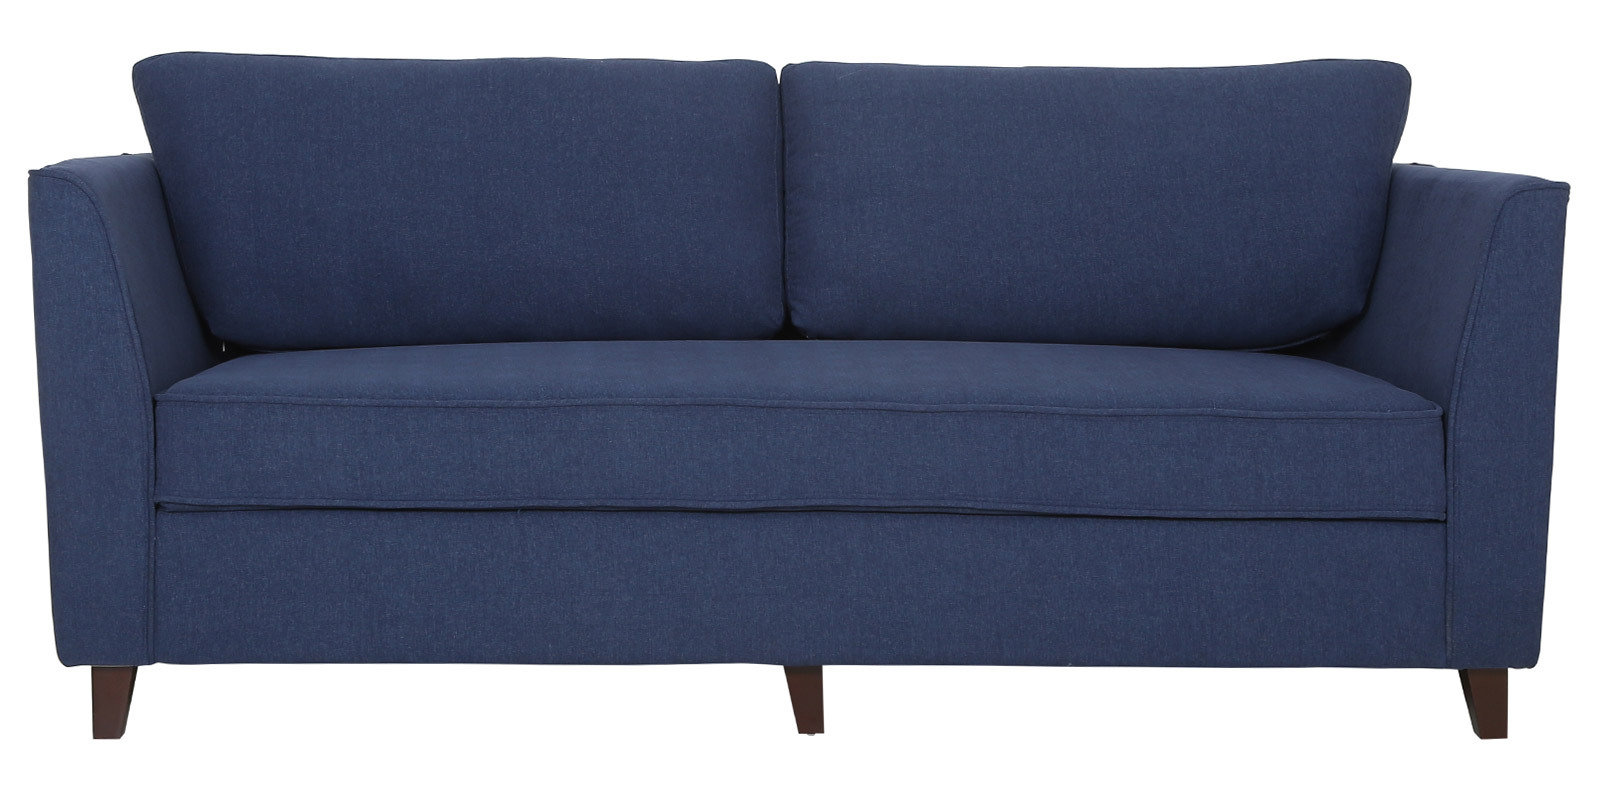Miranda Three Seater Sofa in Navy Blue Colour by CasaCraft: (30, 49, 1572, 739)
